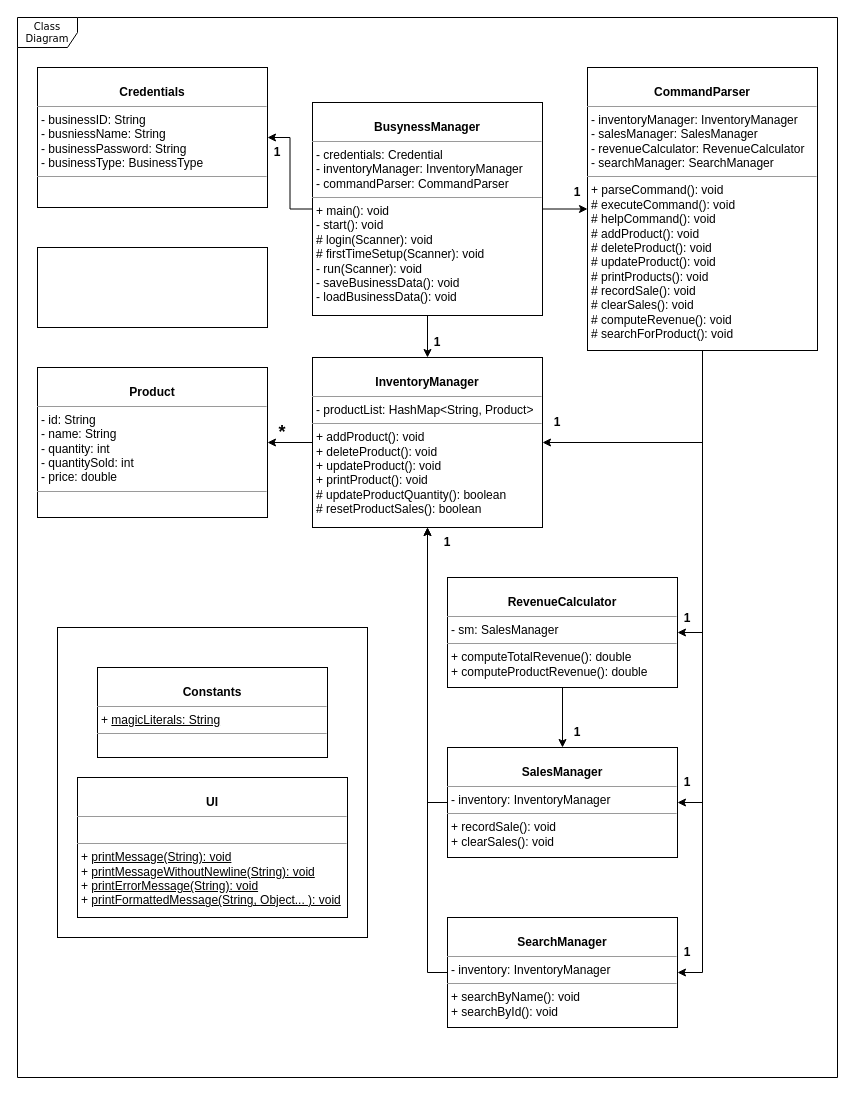
Some shapes in this 855 by 1095 pixel diagram are drawn without their labels. Here are the shapes that lost their labels. From the top down, the box of each, then its label:
(36, 246, 268, 328): <<enumeration>> BusinessType "FNB" "RETAIL"
(56, 626, 368, 938): Most classes uses these classes
